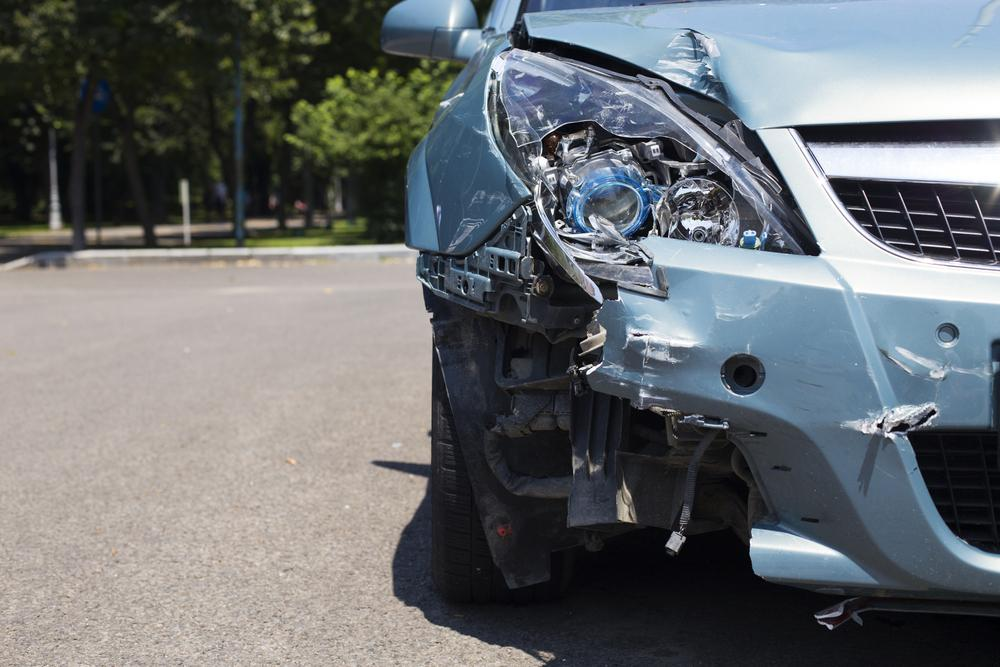crack: (863, 404, 942, 437)
dent: (652, 30, 732, 106)
lamp broken: (492, 52, 812, 258)
scratch: (599, 311, 705, 403), (443, 188, 516, 253), (879, 344, 988, 384)
